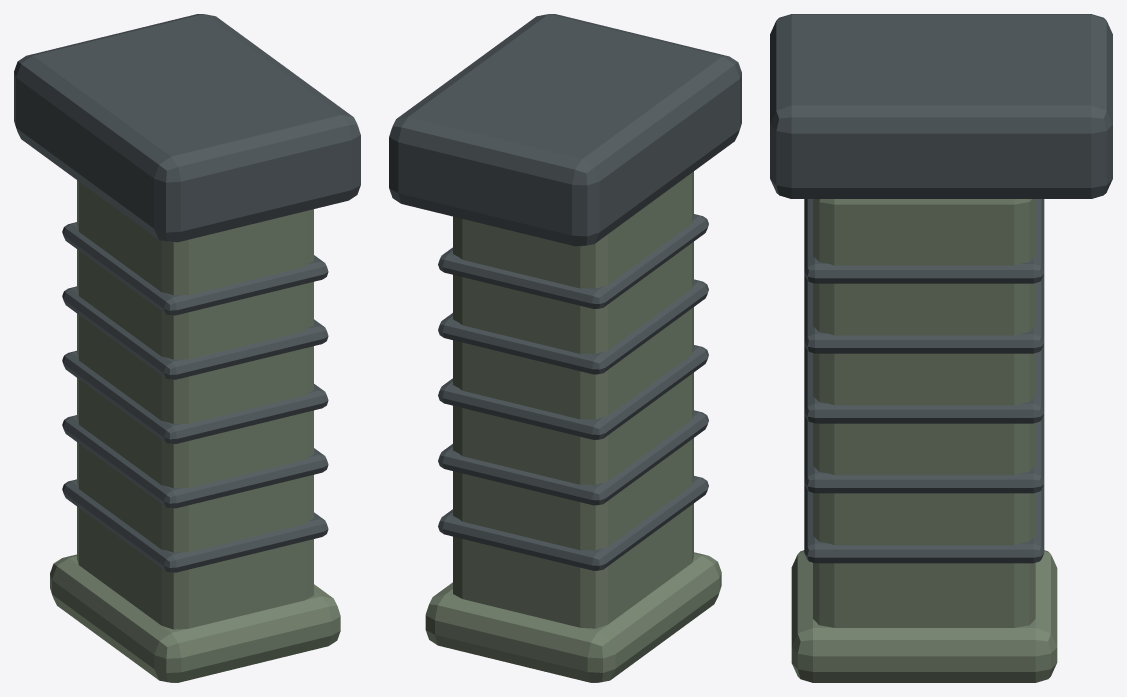
Rendered from foregrip.glb.
3 renders of one model, left to right at view 1: azimuth 30°, elevation 25°; view 2: azimuth 150°, elevation 25°; view 3: azimuth 270°, elevation 25°, orthographic. The views are drawn at different scales.
Parts seen in each view (by area): view 1: Vertical foregrip; view 2: Vertical foregrip; view 3: Vertical foregrip.
Boxes of the visible parts, x1,y1,x2,y2 form: Vertical foregrip: [14, 14, 360, 682]; Vertical foregrip: [389, 14, 741, 682]; Vertical foregrip: [770, 14, 1112, 682].
Bounding box in the file's own units: 0.06 × 0.15 × 0.08.
